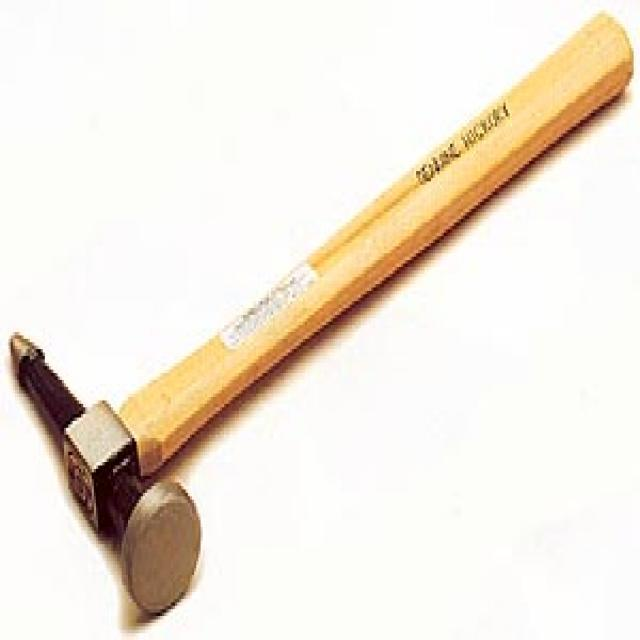hammer: (9, 0, 636, 630)
